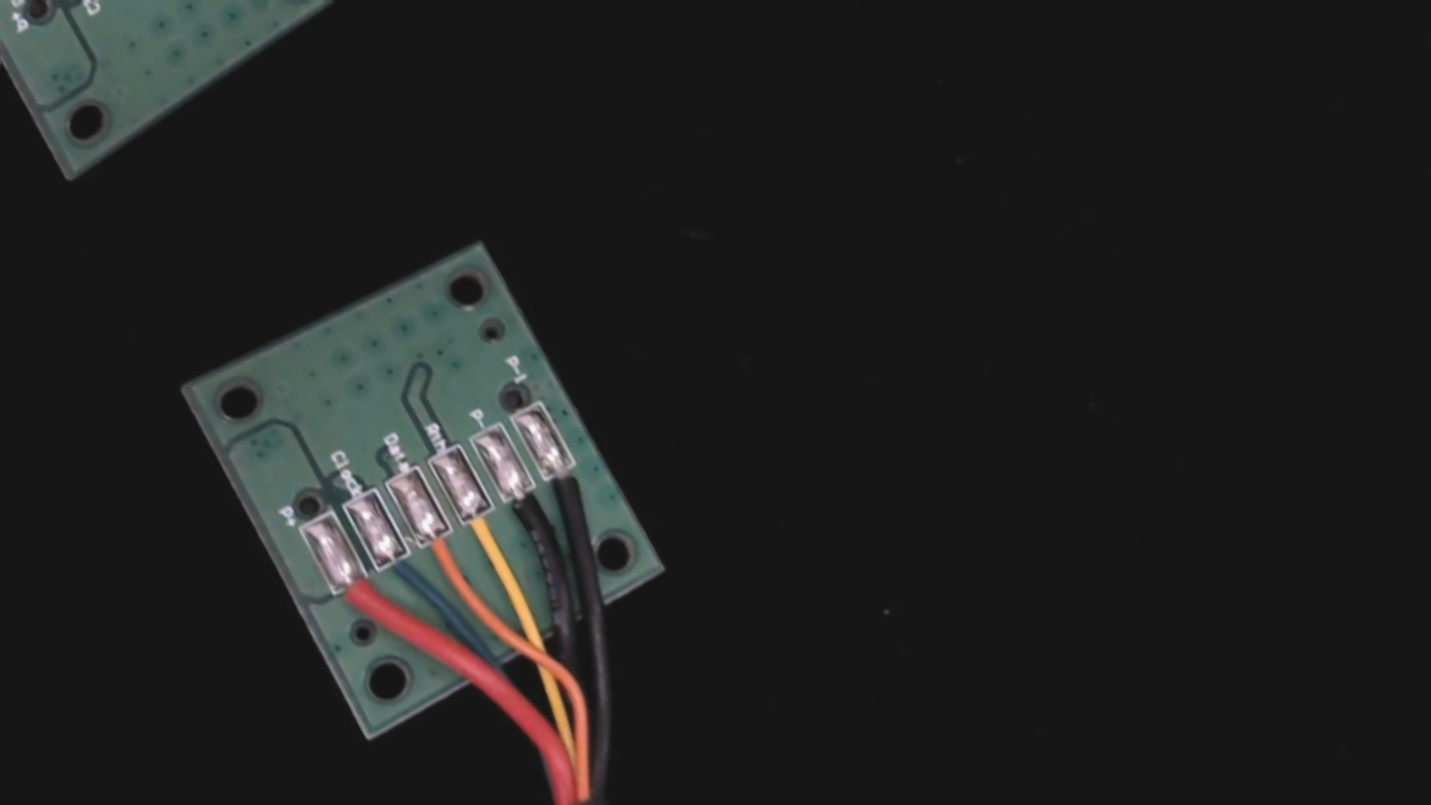Black: (482, 461, 569, 557)
Black1: (529, 440, 611, 530)
Green: (360, 525, 435, 606)
Orange: (402, 503, 486, 597)
Red: (317, 555, 392, 637)
Yellow: (442, 481, 529, 579)
